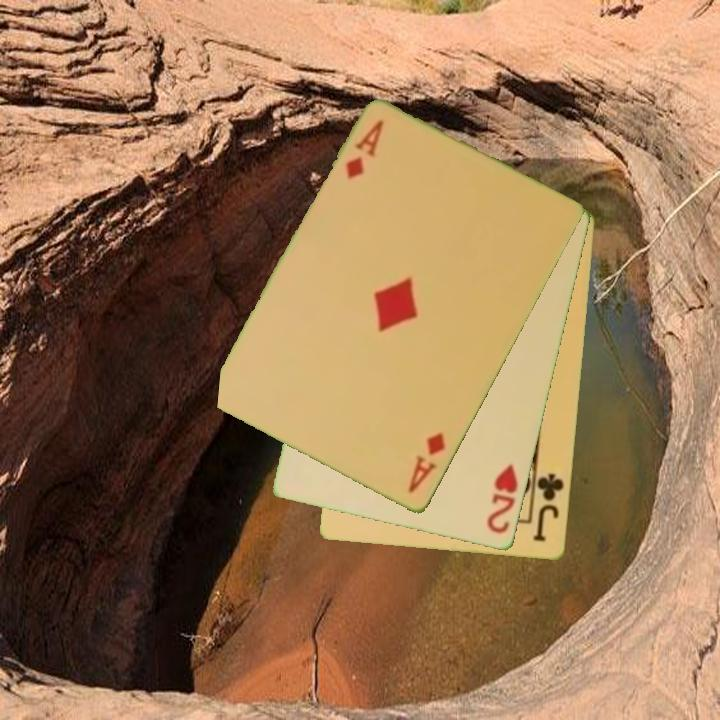2h: (483, 461, 522, 537)
Ad: (404, 429, 448, 497), (342, 117, 387, 183)
Jc: (530, 470, 567, 546)
